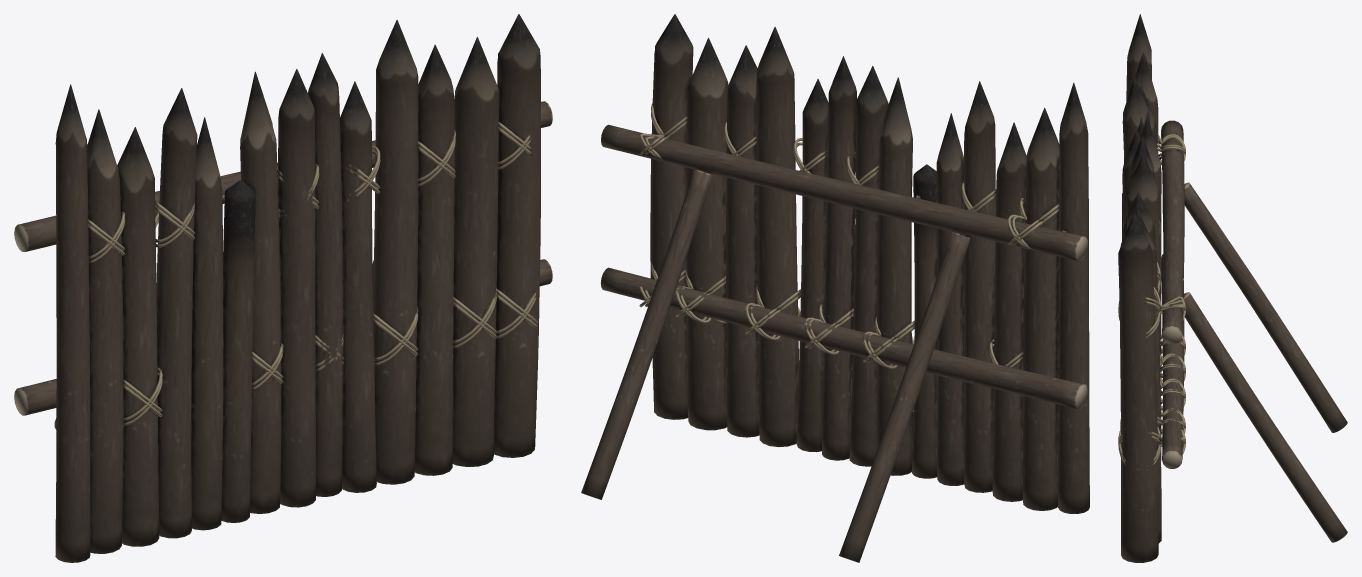
Rendered from SM_SiegeBarricade_Palisade.fbx.
The picture shows the model from 3 angles, left to right: view 1: azimuth 30°, elevation 25°; view 2: azimuth 150°, elevation 25°; view 3: azimuth 270°, elevation 25°; orthographic projection. The views are drawn at different scales.
Parts seen in each view (by area): view 1: SM_SiegeBarricade_Palisade; view 2: SM_SiegeBarricade_Palisade; view 3: SM_SiegeBarricade_Palisade.
Part boxes in pixels (x1,y1,x2,y2): SM_SiegeBarricade_Palisade: [14, 14, 552, 562]; SM_SiegeBarricade_Palisade: [581, 14, 1089, 562]; SM_SiegeBarricade_Palisade: [1118, 14, 1347, 562].
Size of the model in its own units: 424 by 204 by 363.
